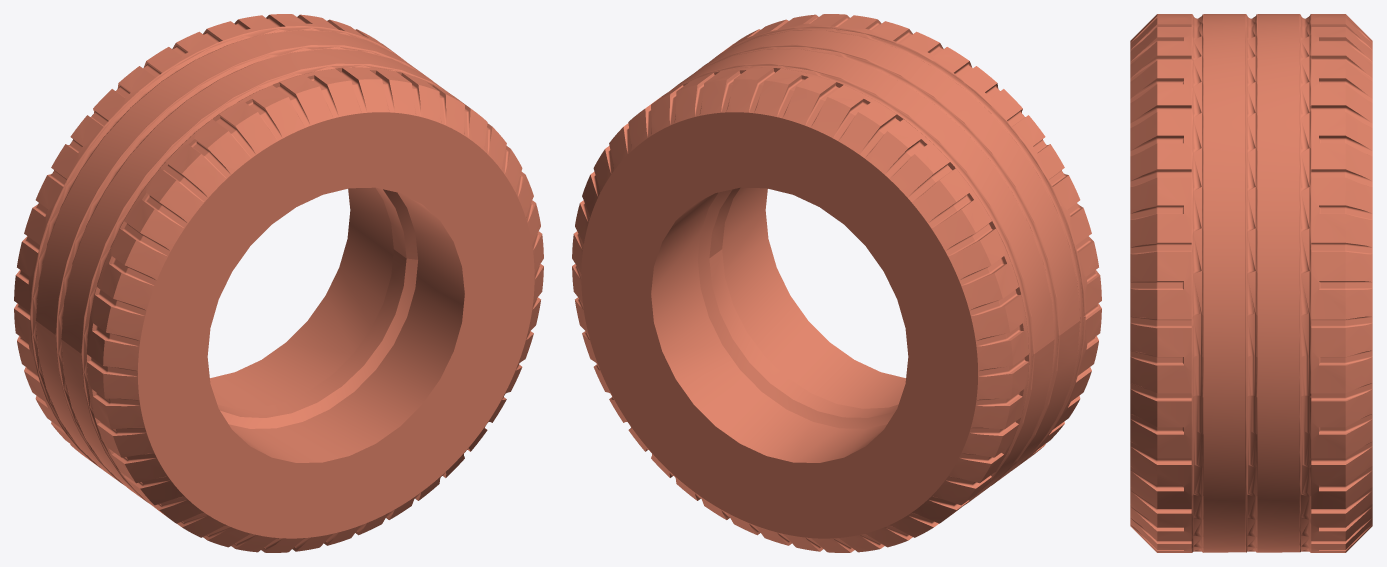
3 renders of one model, left to right at view 1: azimuth 30°, elevation 25°; view 2: azimuth 150°, elevation 25°; view 3: azimuth 270°, elevation 25°, orthographic. The views are drawn at different scales.
Visible parts, largest first — view 1: [pivoted]; view 2: [pivoted]; view 3: [pivoted].
Part boxes in pixels (x1,y1,x2,y2): [pivoted]: (14, 14, 543, 552); [pivoted]: (572, 14, 1101, 552); [pivoted]: (1130, 14, 1372, 552).
Bounding box in the file's own units: 3 × 3 × 1.35.
